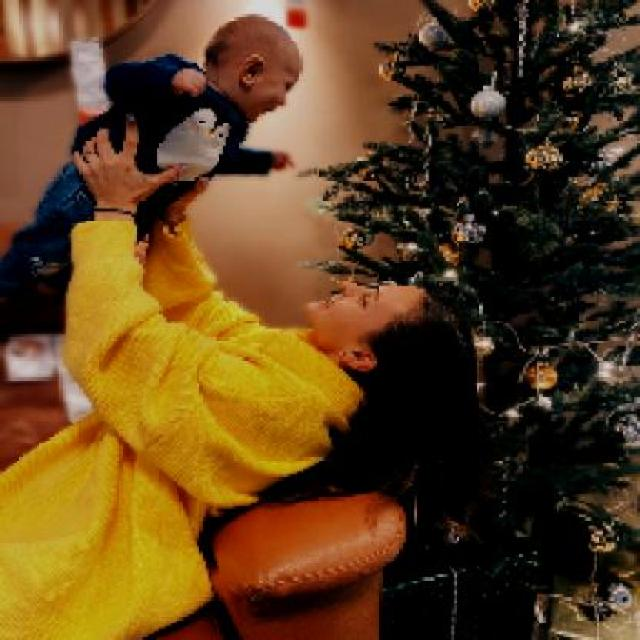child: (2, 14, 308, 303)
